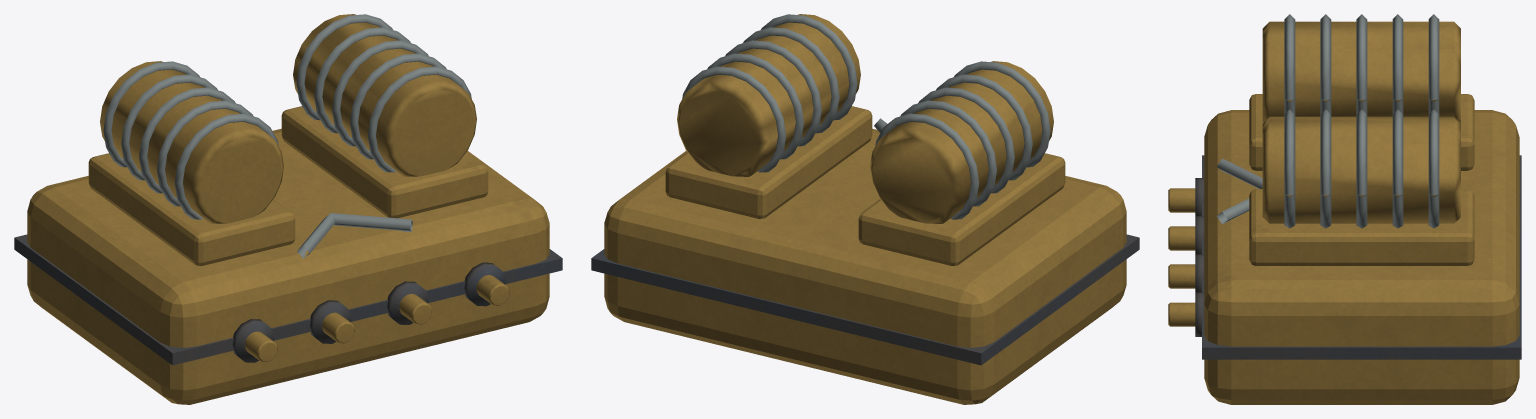
File: prop_golden_relay_01.gltf
3 views of the same model, side by side, from view 1: azimuth 30°, elevation 25°; view 2: azimuth 150°, elevation 25°; view 3: azimuth 270°, elevation 25° (orthographic).
Visible parts, largest first — view 1: prop_golden_relay_01_item_atlas_01; view 2: prop_golden_relay_01_item_atlas_01; view 3: prop_golden_relay_01_item_atlas_01.
Boxes of the visible parts, bbox=[...] form: prop_golden_relay_01_item_atlas_01: bbox=[14, 14, 562, 404]; prop_golden_relay_01_item_atlas_01: bbox=[591, 14, 1139, 404]; prop_golden_relay_01_item_atlas_01: bbox=[1168, 14, 1521, 404].
Size of the model in its own units: 0.101 by 0.0617 by 0.0785.
1 material, 1 textured.
